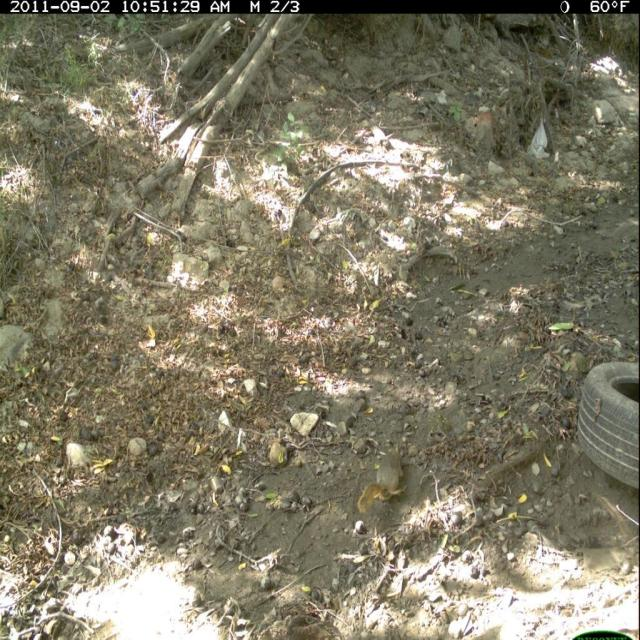squirrel: (353, 430, 411, 518)
